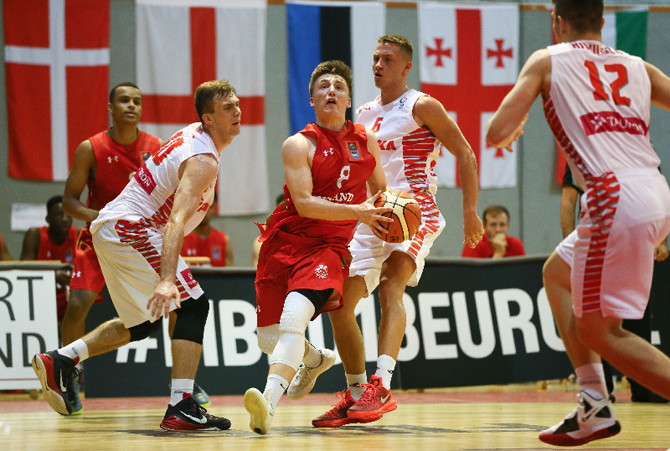ball: (371, 191, 423, 243)
player: (492, 1, 667, 446), (54, 79, 252, 432), (316, 35, 482, 427), (250, 59, 385, 431), (48, 78, 167, 391)
